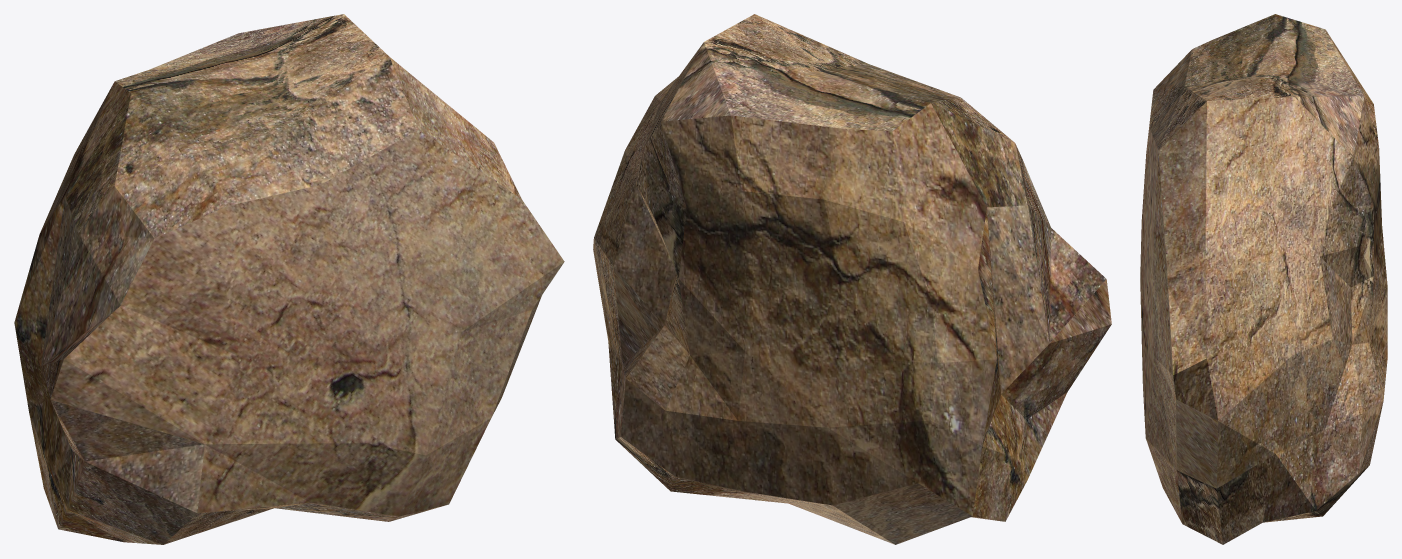
The model's file is Rock1.dae.
3 renders of one model, left to right at view 1: azimuth 30°, elevation 25°; view 2: azimuth 150°, elevation 25°; view 3: azimuth 270°, elevation 25°, orthographic. The views are drawn at different scales.
Visible parts, largest first — view 1: node; view 2: node; view 3: node.
Part boxes in pixels (x1,y1,x2,y2): node: (14,14,564,544); node: (593,14,1111,544); node: (1140,14,1387,544).
Bounding box in the file's own units: 3.63 × 3.18 × 1.68.
Materials: 1 (1 with a texture image).
